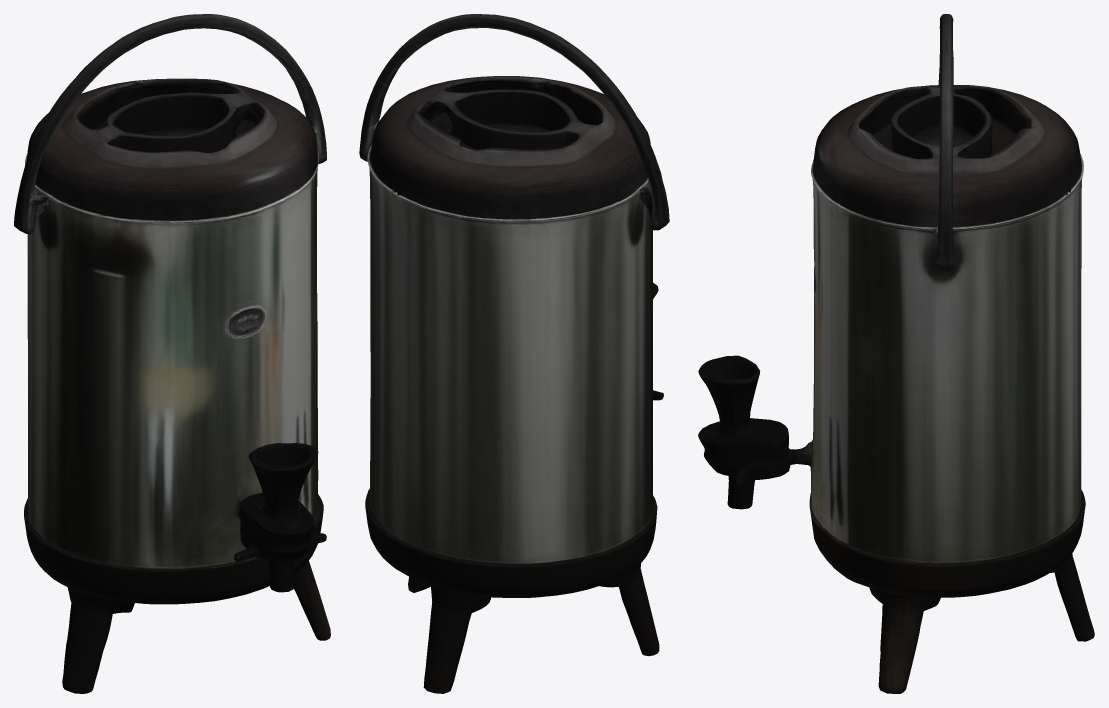
The model's file is Bình Trà.fbx.
The picture shows the model from 3 angles, left to right: view 1: azimuth 30°, elevation 25°; view 2: azimuth 150°, elevation 25°; view 3: azimuth 270°, elevation 25°; orthographic projection. The views are drawn at different scales.
Visible parts, largest first — view 1: world; view 2: world; view 3: world.
Boxes of the visible parts, bbox=[...] form: world: bbox=[14, 14, 330, 693]; world: bbox=[359, 14, 669, 693]; world: bbox=[698, 14, 1094, 693].
Size of the model in its own units: 0.5129 by 0.9999 by 0.5947.
Materials: 1 (1 with a texture image).
